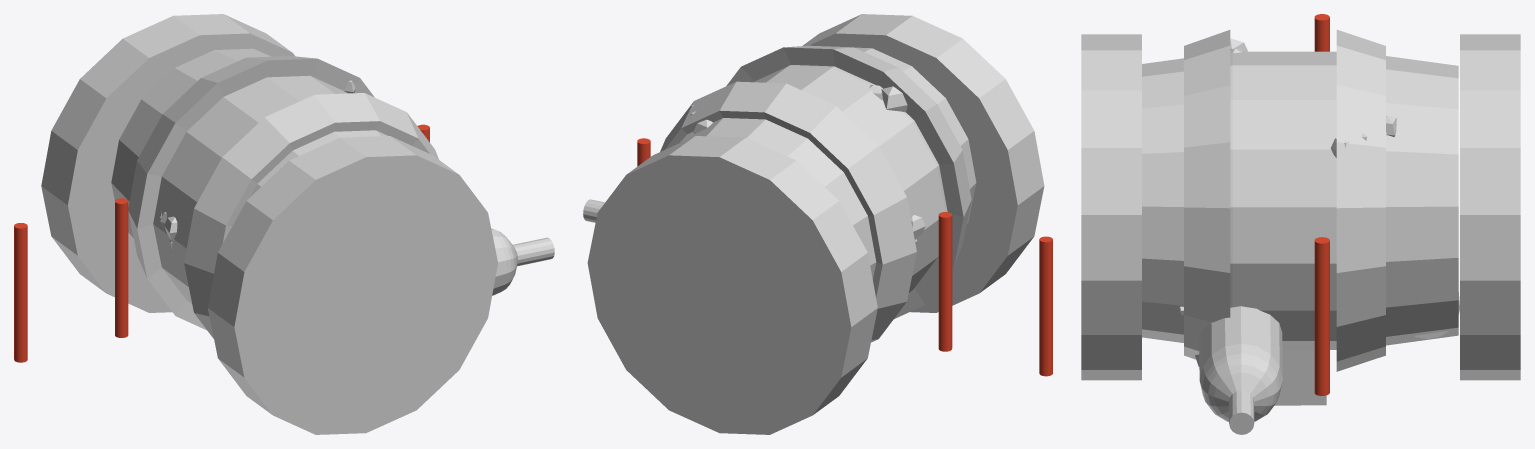
The picture shows the model from 3 angles, left to right: view 1: azimuth 30°, elevation 25°; view 2: azimuth 150°, elevation 25°; view 3: azimuth 270°, elevation 25°; orthographic projection. The views are drawn at different scales.
Parts seen in each view (by area): view 1: Cylinder.074, Cylinder.070, Cylinder.075, DEIXAR EM TODOS OS LEVELS P/ REF, Cylinder.073; view 2: Cylinder.075, Cylinder.070, Cylinder.074, DEIXAR EM TODOS OS LEVELS P/ REF, Sphere.020; view 3: Cylinder.070, Cylinder.074, Cylinder.075, Cylinder.073, DEIXAR EM TODOS OS LEVELS P/ REF, Cube.194.
Part boxes in pixels (box(x1,y1,x2,y2)): Cylinder.074: box(208, 136, 497, 434); Cylinder.070: box(111, 48, 438, 338); Cylinder.075: box(41, 14, 294, 312); DEIXAR EM TODOS OS LEVELS P/ REF: box(14, 124, 429, 362); Cylinder.073: box(491, 228, 554, 295); Cylinder.075: box(587, 136, 877, 434); Cylinder.070: box(660, 45, 976, 342); Cylinder.074: box(802, 14, 1044, 312); DEIXAR EM TODOS OS LEVELS P/ REF: box(637, 138, 1052, 376); Sphere.020: box(881, 86, 907, 112); Cylinder.070: box(1142, 29, 1458, 371); Cylinder.074: box(1081, 34, 1141, 380); Cylinder.075: box(1460, 34, 1520, 380); Cylinder.073: box(1199, 306, 1282, 434); DEIXAR EM TODOS OS LEVELS P/ REF: box(1314, 14, 1329, 395); Cube.194: box(1274, 350, 1326, 405).
Size of the model in its own units: 1739 by 1052 by 1165.
